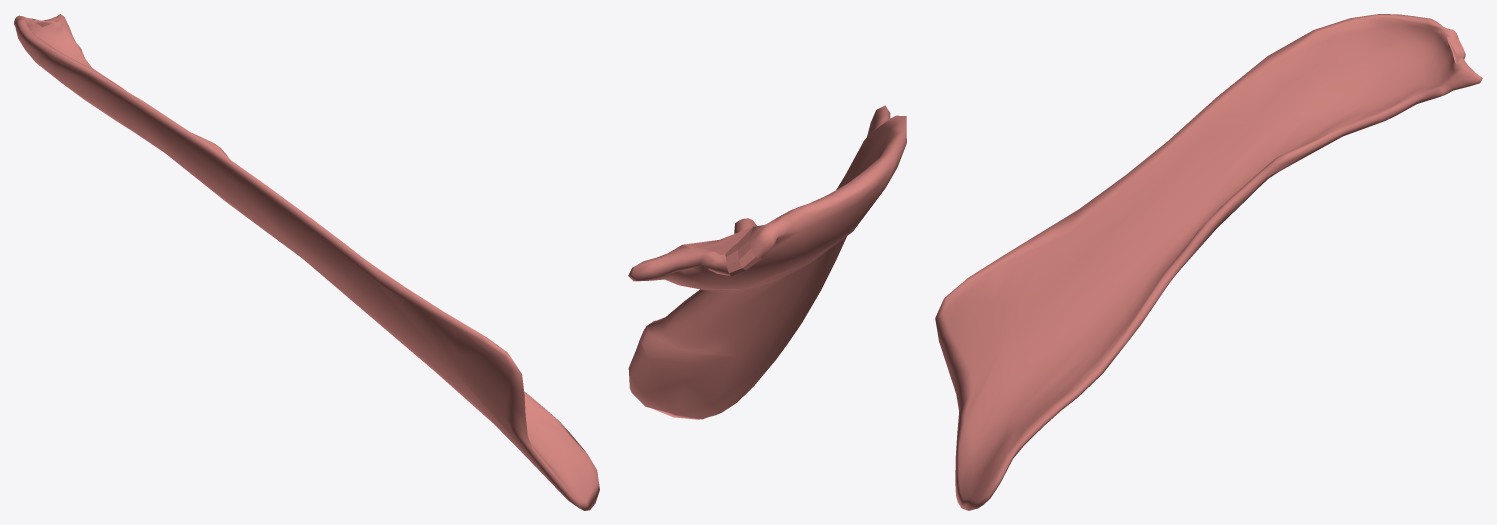
The picture shows the model from 3 angles, left to right: view 1: azimuth 30°, elevation 25°; view 2: azimuth 150°, elevation 25°; view 3: azimuth 270°, elevation 25°; orthographic projection. The views are drawn at different scales.
Parts seen in each view (by area): view 1: ZA_6f29ce035c5b1cd3; view 2: ZA_6f29ce035c5b1cd3; view 3: ZA_6f29ce035c5b1cd3.
Boxes of the visible parts, x1,y1,x2,y2 form: ZA_6f29ce035c5b1cd3: (14,14,599,510); ZA_6f29ce035c5b1cd3: (628,105,906,419); ZA_6f29ce035c5b1cd3: (935,14,1482,510).
Bounding box in the file's own units: 0.0169 × 0.0176 × 0.025.
